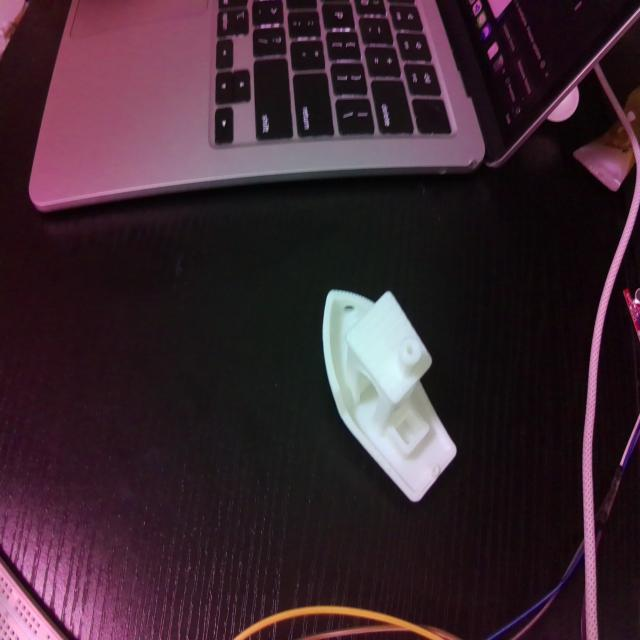ship: (323, 287, 457, 502)
